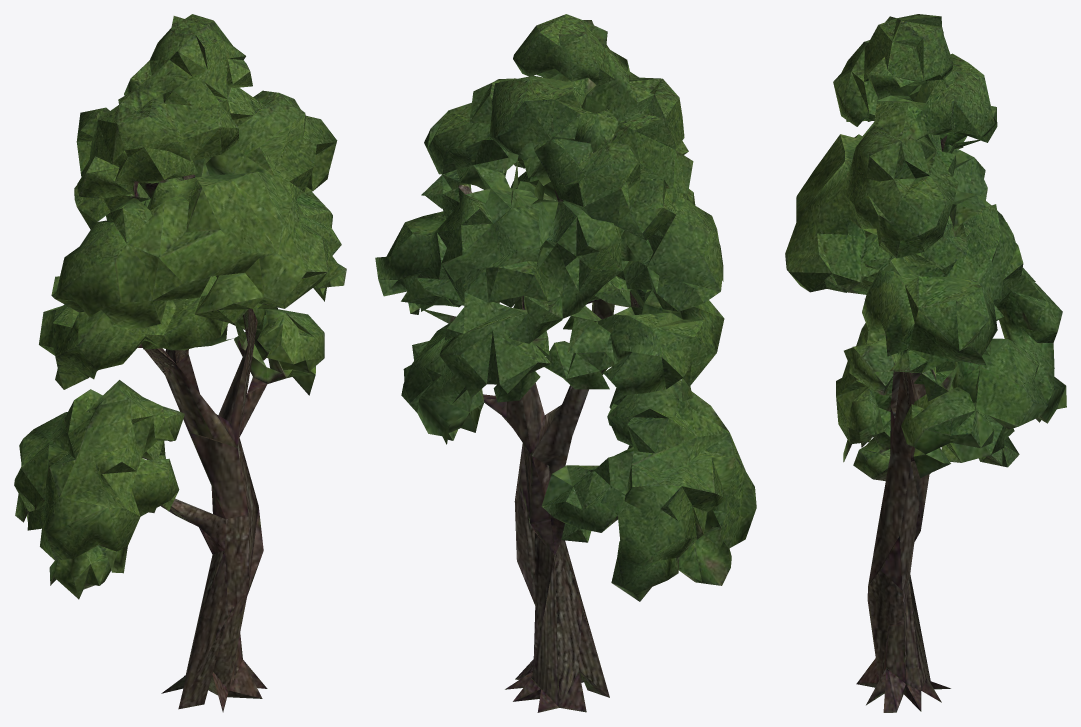
Rendered from temperate-broadleaf-v1.glb.
3 renders of one model, left to right at view 1: azimuth 30°, elevation 25°; view 2: azimuth 150°, elevation 25°; view 3: azimuth 270°, elevation 25°, orthographic. The views are drawn at different scales.
Visible parts, largest first — view 1: mesh_node; view 2: mesh_node; view 3: mesh_node.
Boxes of the visible parts, <box> form: mesh_node: <box>14,14,346,712</box>; mesh_node: <box>375,14,756,712</box>; mesh_node: <box>785,14,1066,712</box>.
Size of the model in its own units: 5.63 by 11 by 4.21.
1 material, 1 textured.
